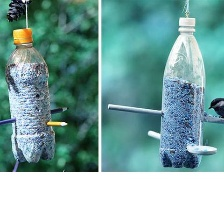bottle: (157, 12, 208, 174), (4, 25, 60, 166)
